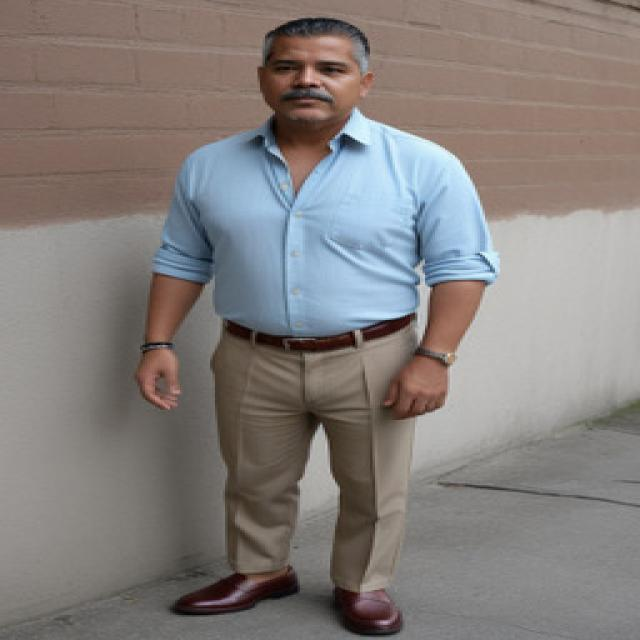Ai human 2: (118, 15, 510, 640)
